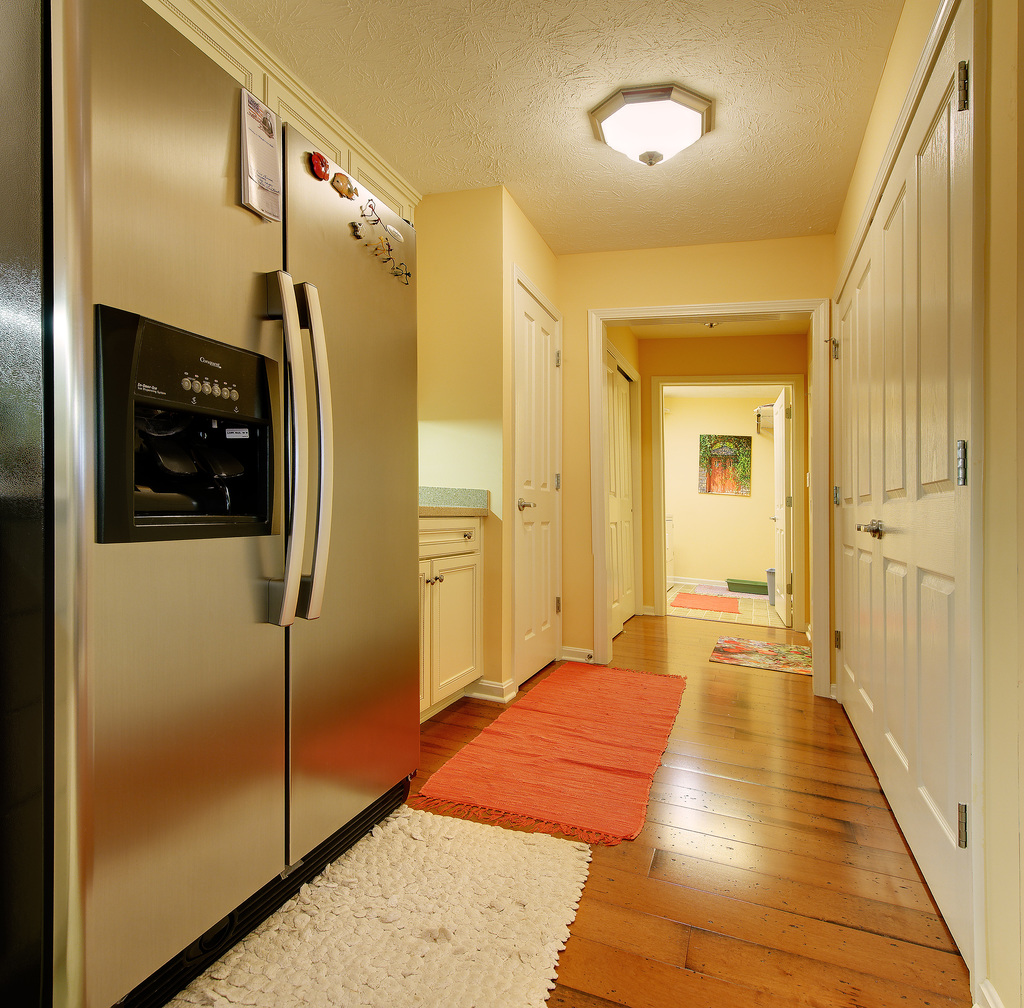cabinet door: (431, 564, 480, 679)
door: (874, 200, 962, 839), (838, 308, 881, 717), (519, 302, 555, 659), (770, 410, 790, 613)
handle: (254, 276, 308, 622), (293, 283, 335, 613), (858, 519, 882, 549), (519, 494, 538, 517), (434, 570, 443, 585)
refrigerator door: (88, 17, 278, 882), (295, 143, 416, 781)
